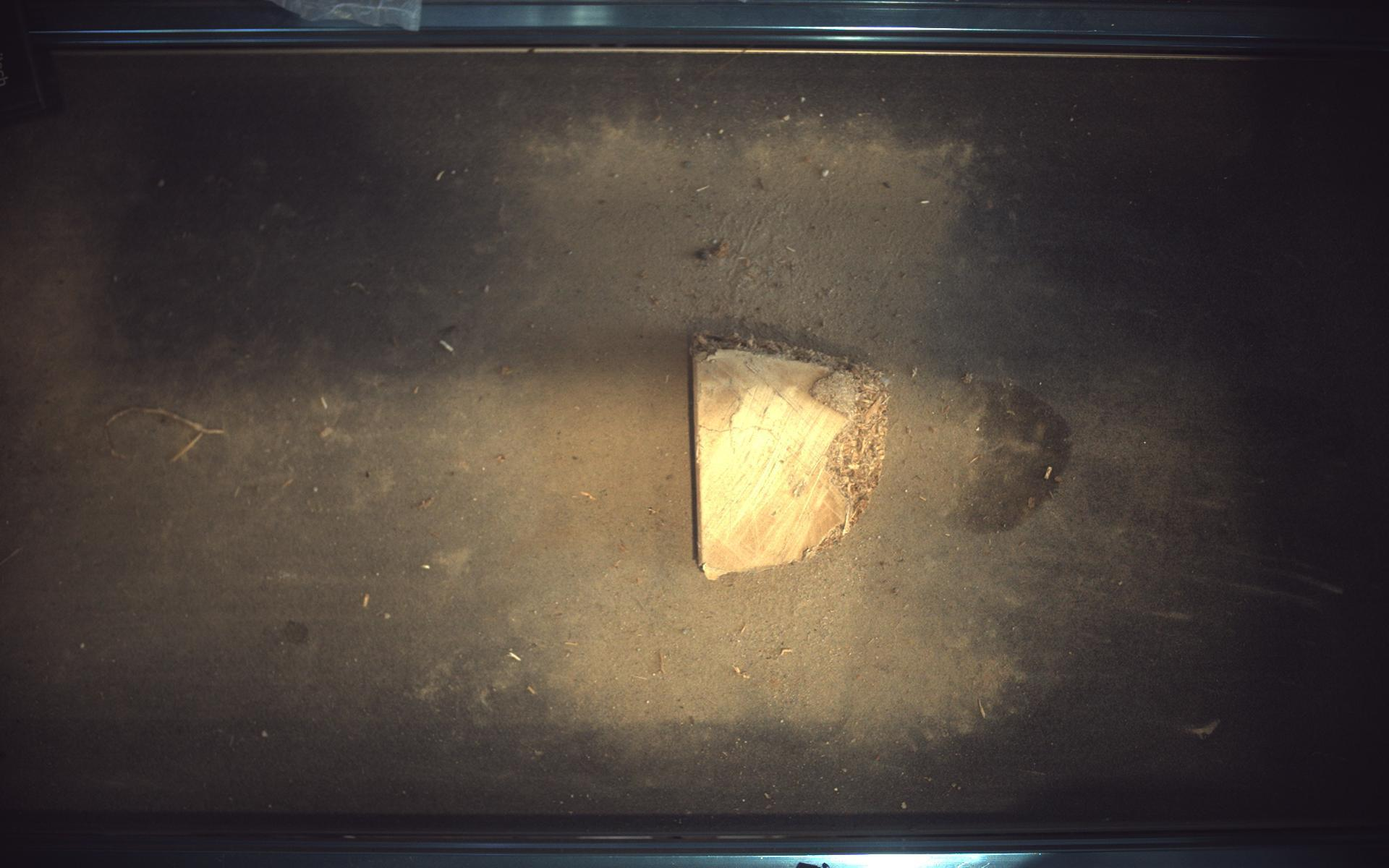wood: (692, 333, 890, 580)
